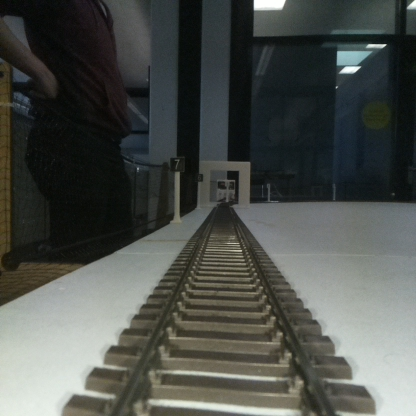black-info-6: (196, 173, 203, 209)
black-info-7: (171, 156, 184, 223)
